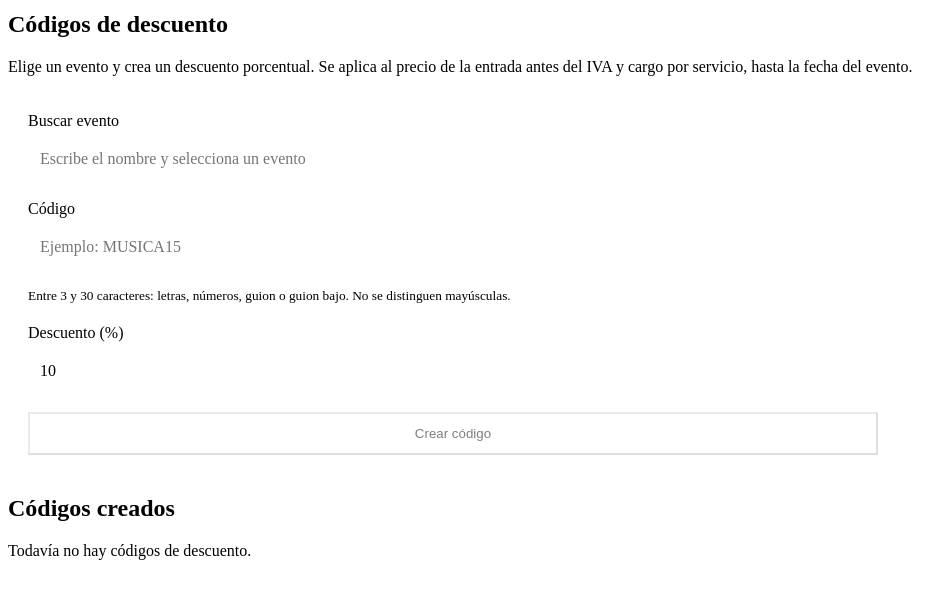
Códigos de descuento del administrador › solo sugiere eventos disponibles y no crea el código sin elegir uno
Type "rock" into the dropdown labelled "Buscar evento" at (453, 159), box [28,138,878,180]
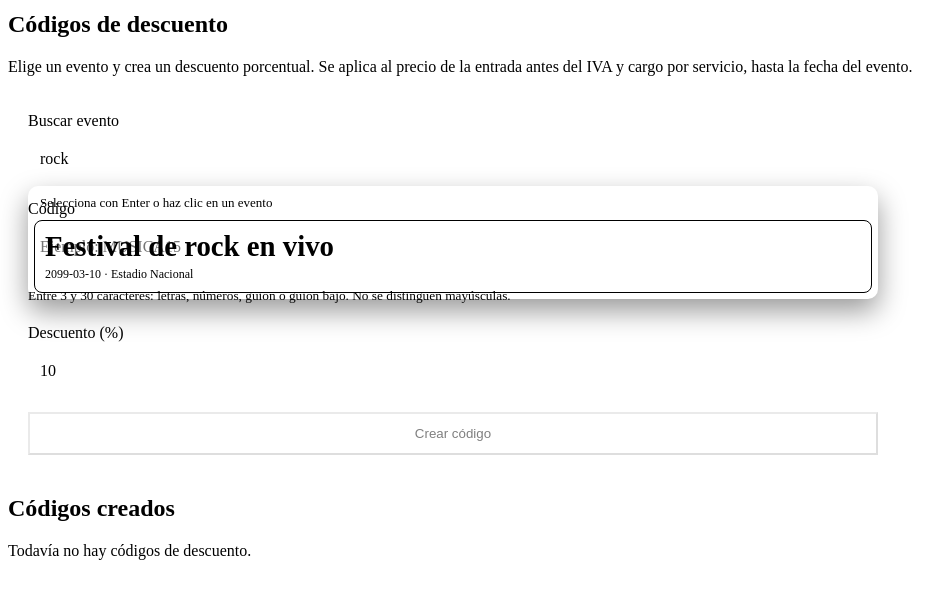
Expected: the button "Crear código" is disabled, [28,412,878,455]
Expected: the option "Festival de rock en vivo 2099-03-10 · Estadio Nacional" is shown, [34,220,872,293]
Submit the form
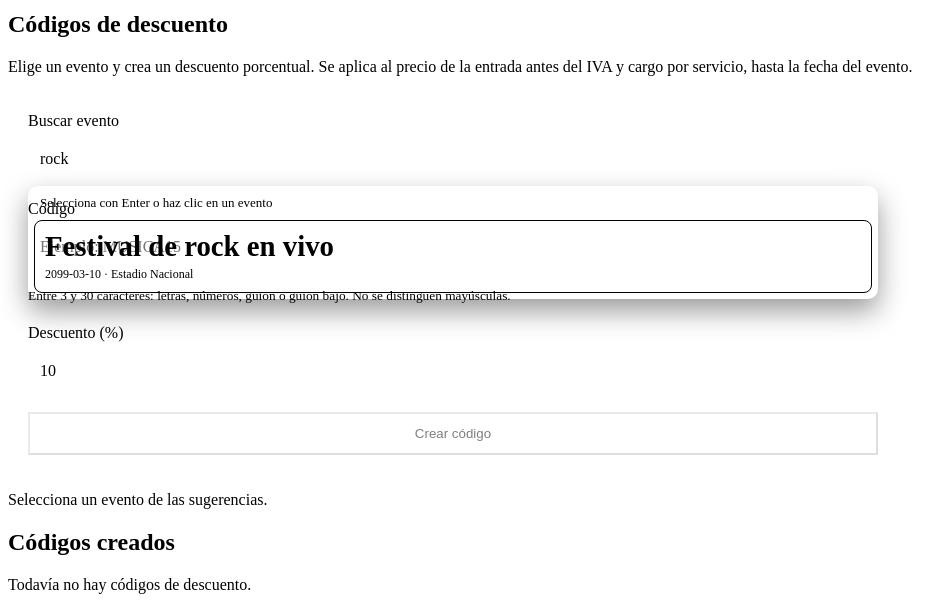
Expected: the text "Selecciona un evento de las sugerencias." is shown, [8,491,268,508]
